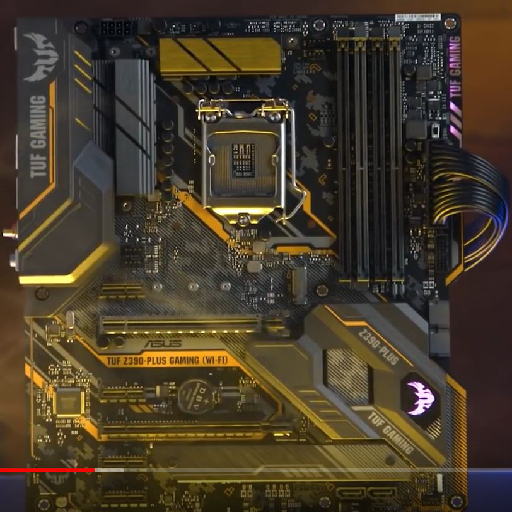CPU: (200, 110, 287, 227)
GPU: (98, 310, 292, 339), (97, 414, 291, 443)
MOTHERBOARD: (12, 14, 472, 503)
RAM: (334, 26, 407, 298)
SSD: (283, 266, 308, 307)
